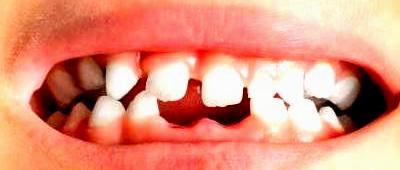Hypodontia: (204, 97, 255, 129), (153, 96, 203, 127)
